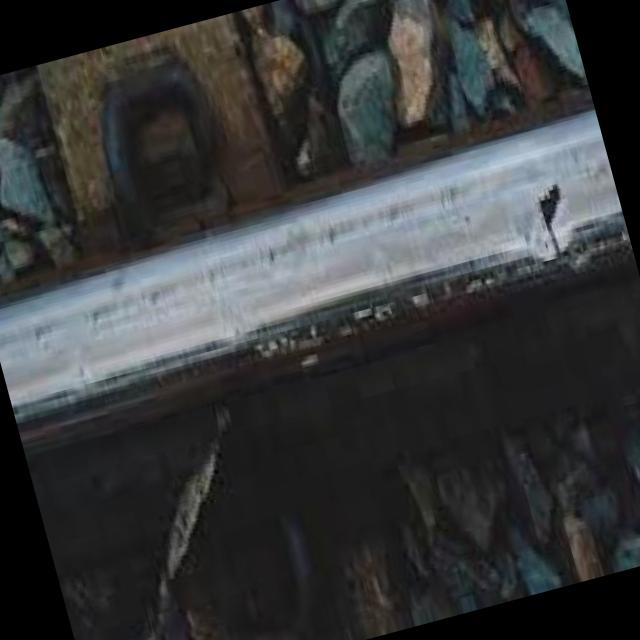defective: (0, 42, 640, 572)
